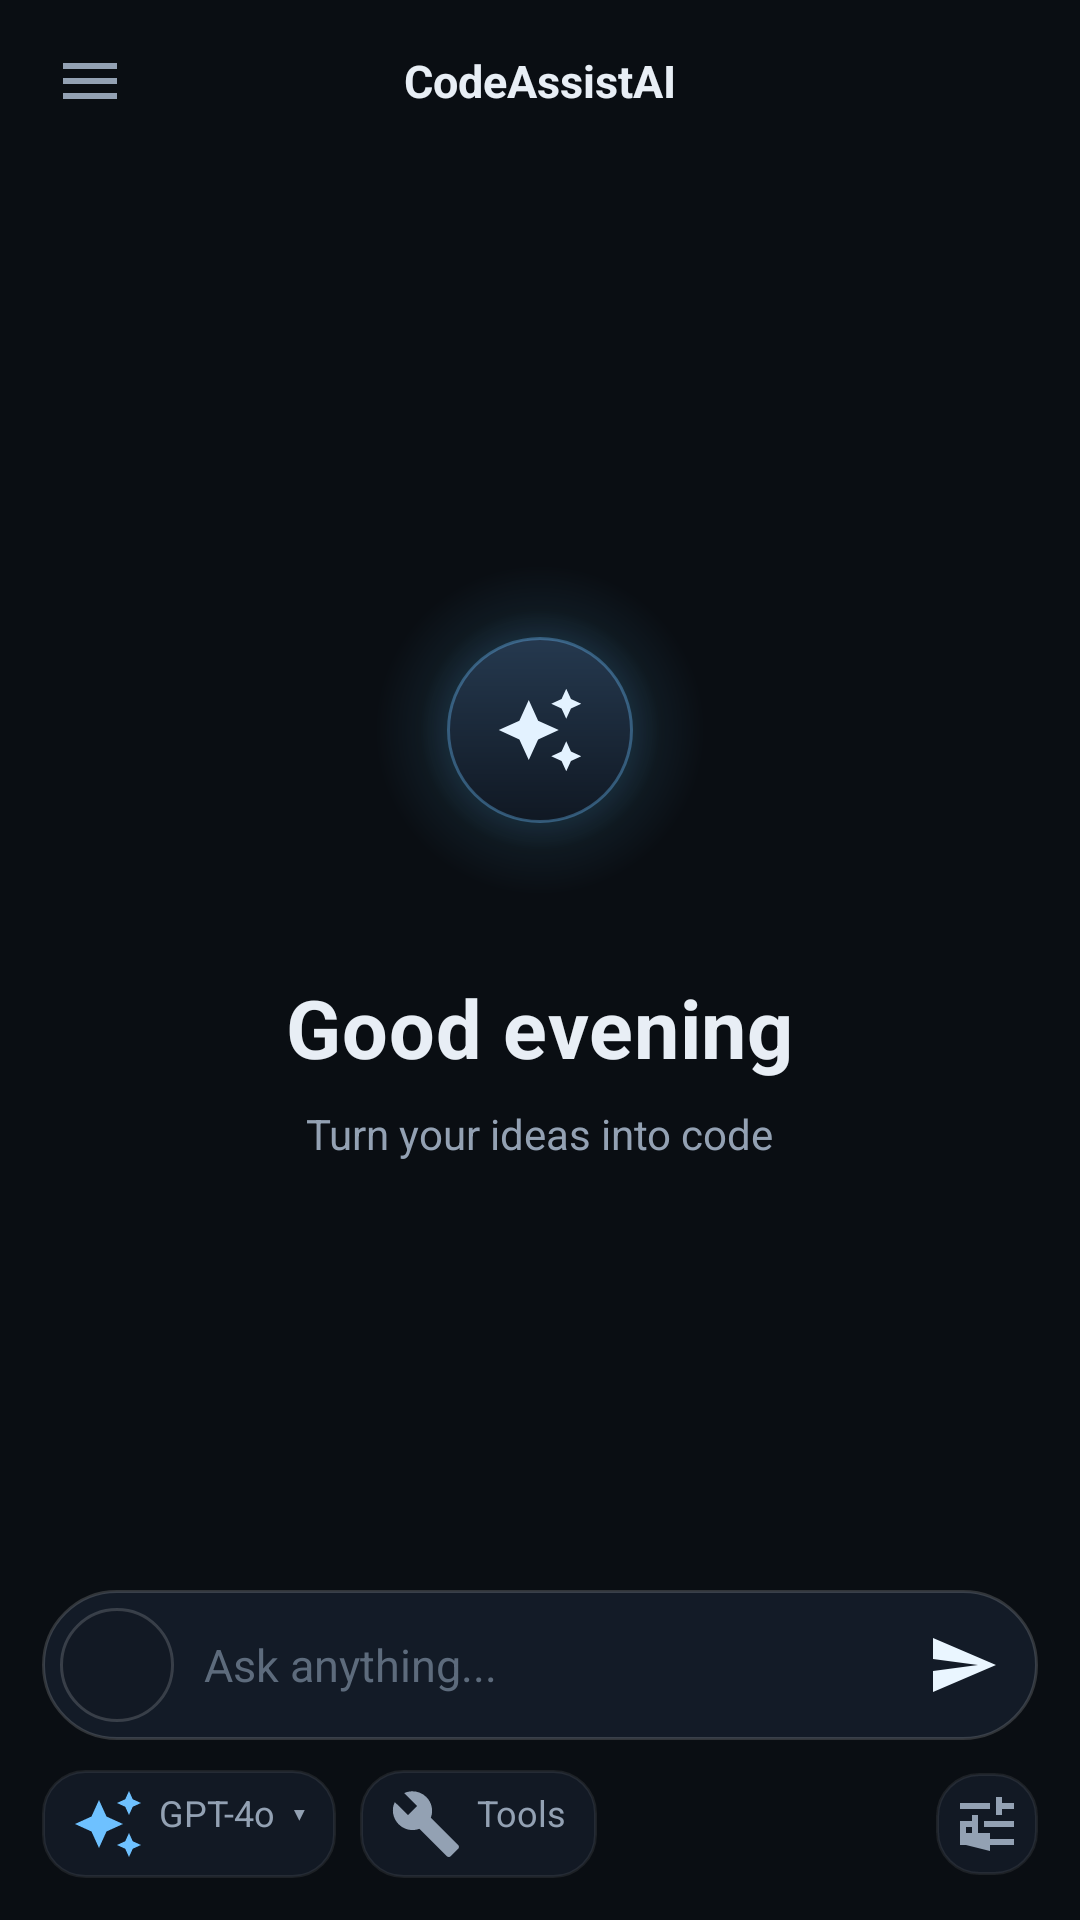

Named icons in this screenshot (1080px x 1920px) and their centers, (x=x, y=y):
Composer options: (x=987, y=1824)
Menu: (x=90, y=81)
Send: (x=964, y=1665)
sparkle: (x=540, y=728)
